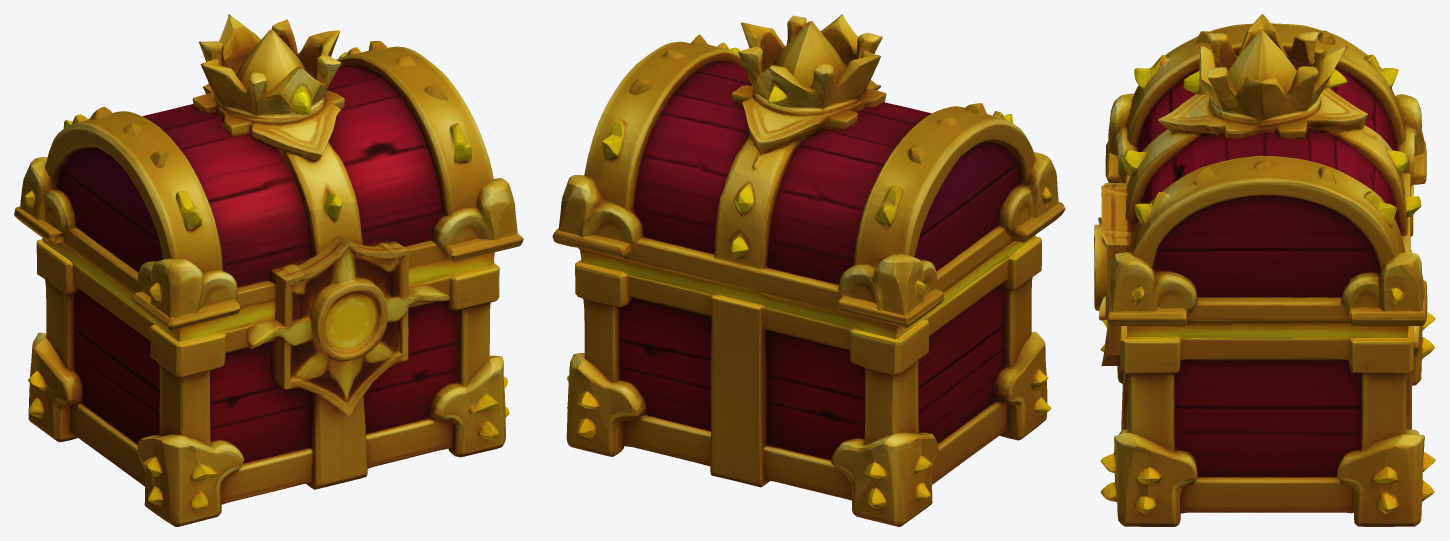
3 renders of one model, left to right at view 1: azimuth 30°, elevation 25°; view 2: azimuth 150°, elevation 25°; view 3: azimuth 270°, elevation 25°, orthographic.
Parts seen in each view (by area): view 1: geometry_0; view 2: geometry_0; view 3: geometry_0.
Boxes of the visible parts, <box> form: geometry_0: <box>14,14,523,526</box>; geometry_0: <box>552,14,1065,526</box>; geometry_0: <box>1094,14,1435,526</box>.
Size of the model in its own units: 0.9279 by 1 by 0.747.
Materials: 1 (1 with a texture image).
